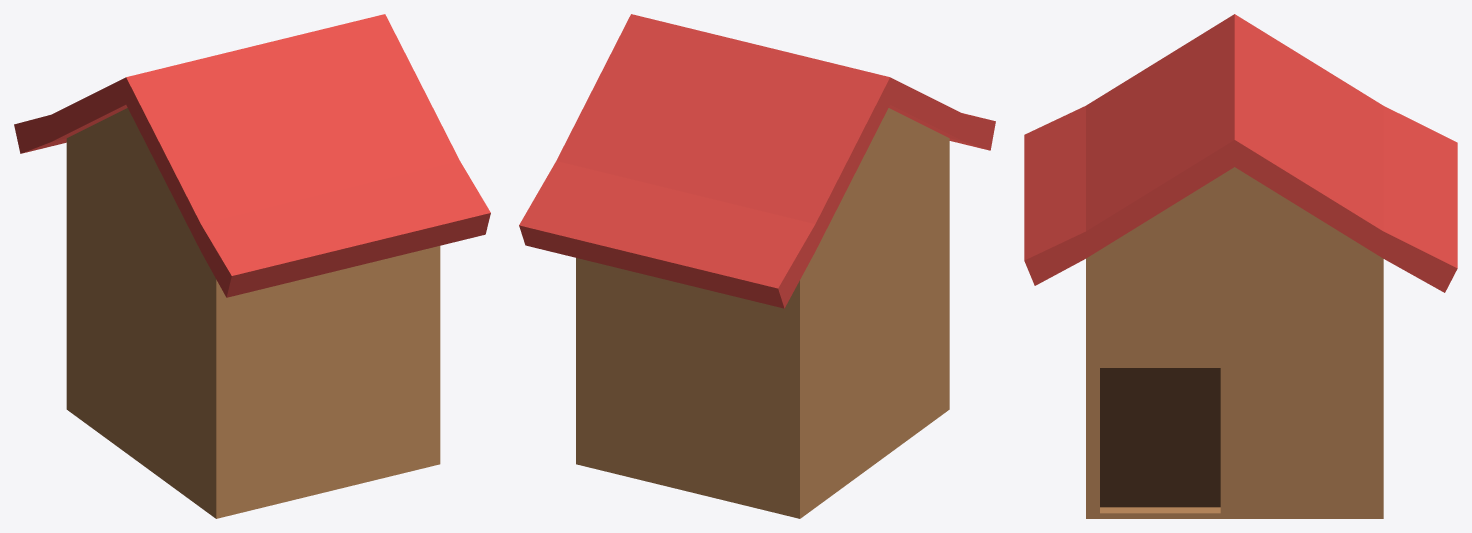
The model's file is lowpolyev.fbx.
The picture shows the model from 3 angles, left to right: view 1: azimuth 30°, elevation 25°; view 2: azimuth 150°, elevation 25°; view 3: azimuth 270°, elevation 25°; orthographic projection.
Visible parts, largest first — view 1: Cube; view 2: Cube; view 3: Cube.
Part boxes in pixels (bbox=[...]): Cube: bbox=[14, 14, 490, 518]; Cube: bbox=[519, 14, 995, 518]; Cube: bbox=[1024, 14, 1457, 518].
Bounding box in the file's own units: 200 × 288 × 291.
